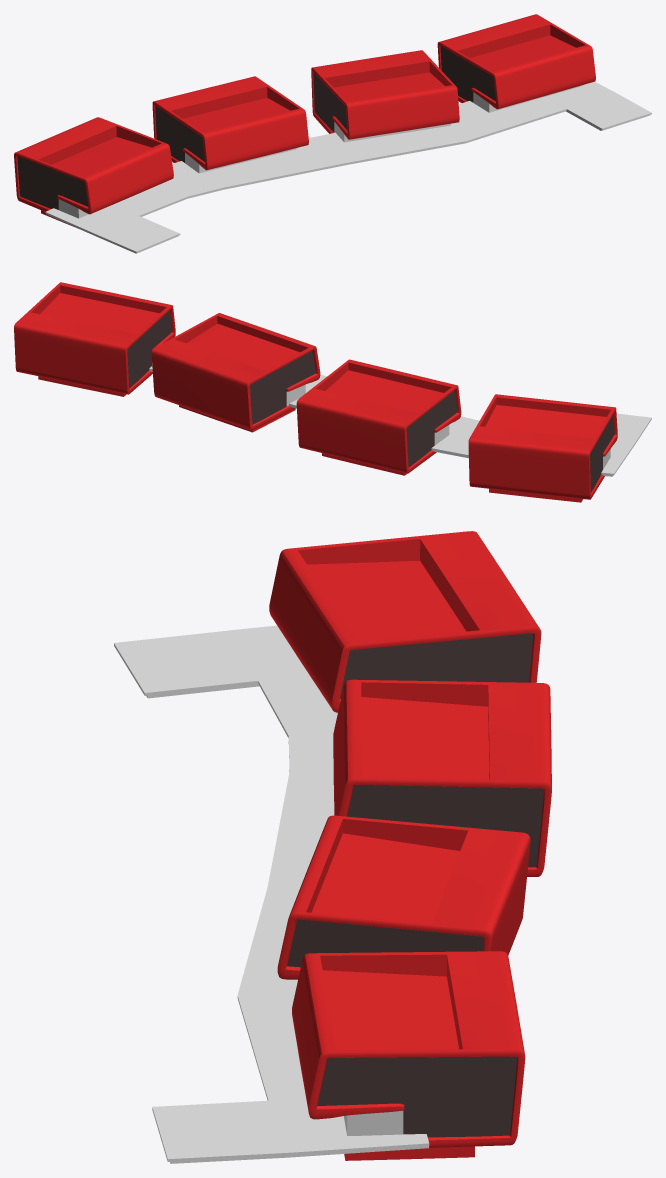
Rendered from ParqueExplora.fbx.
3 views of the same model, one above another, from view 1: azimuth 30°, elevation 25°; view 2: azimuth 150°, elevation 25°; view 3: azimuth 270°, elevation 25° (orthographic). The views are drawn at different scales.
Visible parts, largest first — view 1: Cube.005, Cube.004, Cube.003, Cube.006, Cube.002; view 2: Cube.002, Cube.003, Cube.006, Cube.004, Cube.005; view 3: Cube.006, Cube.005, Cube.004, Cube.003, Cube.002.
Boxes of the visible parts, bbox=[...] form: Cube.005: bbox=[45, 81, 651, 253]; Cube.004: bbox=[14, 117, 173, 228]; Cube.003: bbox=[152, 76, 308, 173]; Cube.006: bbox=[437, 14, 595, 112]; Cube.002: bbox=[311, 50, 459, 142]; Cube.002: bbox=[151, 313, 320, 432]; Cube.003: bbox=[296, 359, 461, 475]; Cube.006: bbox=[14, 282, 175, 396]; Cube.004: bbox=[468, 394, 617, 502]; Cube.005: bbox=[149, 366, 651, 476]; Cube.006: bbox=[292, 951, 525, 1160]; Cube.005: bbox=[114, 625, 429, 1163]; Cube.004: bbox=[269, 531, 541, 712]; Cube.003: bbox=[333, 679, 551, 876]; Cube.002: bbox=[277, 815, 530, 979].
Bounding box in the file's own units: 2762 × 286 × 935.
